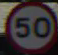Speed limit: (4, 1, 53, 48)
